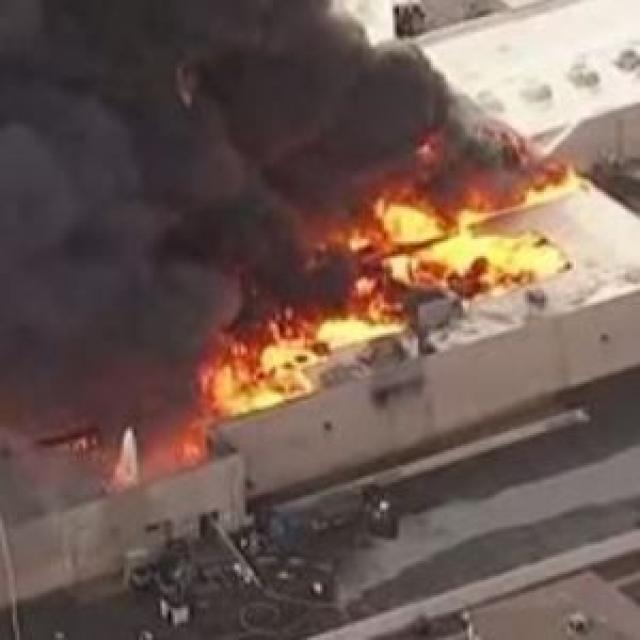Fire: (219, 141, 612, 424)
Smoke: (0, 6, 405, 345)
